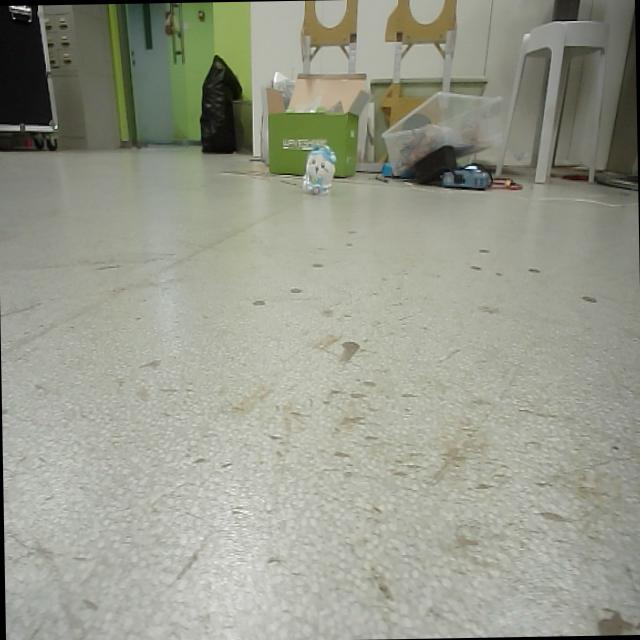xiaoba: (300, 139, 336, 197)
